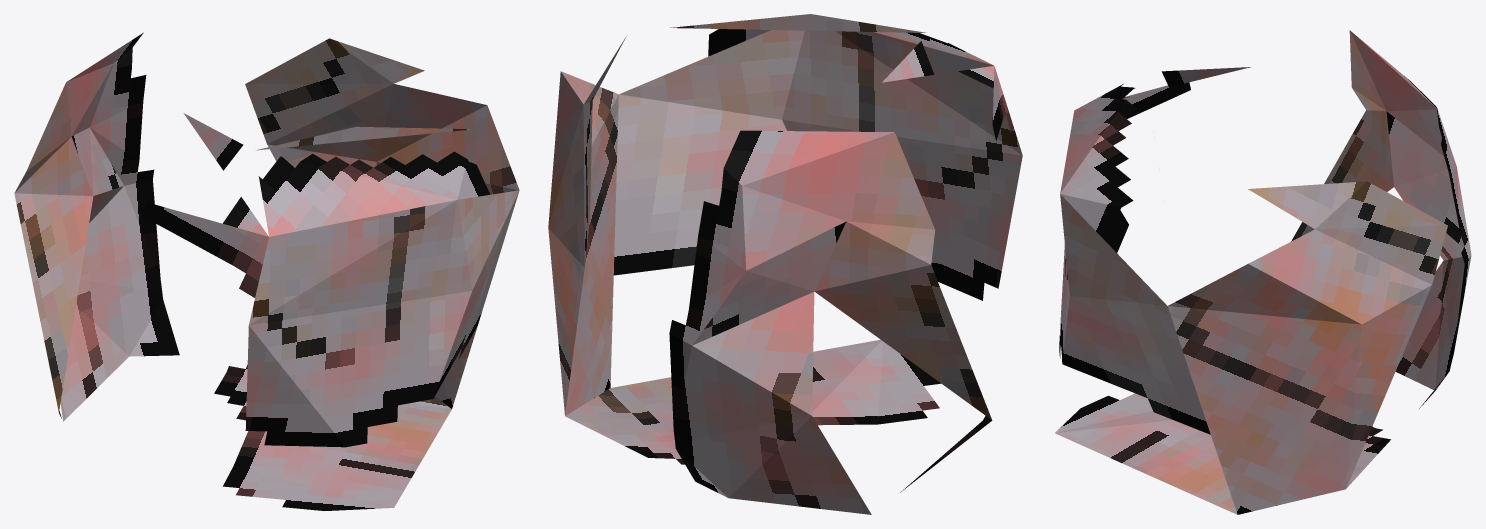
The model's file is iron_ore.fbx.
3 renders of one model, left to right at view 1: azimuth 30°, elevation 25°; view 2: azimuth 150°, elevation 25°; view 3: azimuth 270°, elevation 25°, orthographic. The views are drawn at different scales.
Parts seen in each view (by area): view 1: iron_ore; view 2: iron_ore; view 3: iron_ore.
Part boxes in pixels (left/top/right/bottom): iron_ore: left=14, top=32, right=519, bottom=510; iron_ore: left=548, top=14, right=1022, bottom=514; iron_ore: left=1055, top=30, right=1471, bottom=514.
Size of the model in its own units: 19.49 by 16.68 by 17.83.
